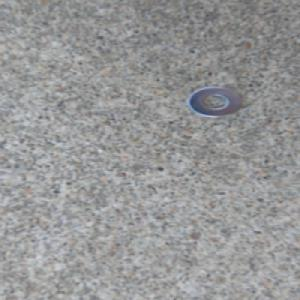Washer: (184, 84, 245, 119)
